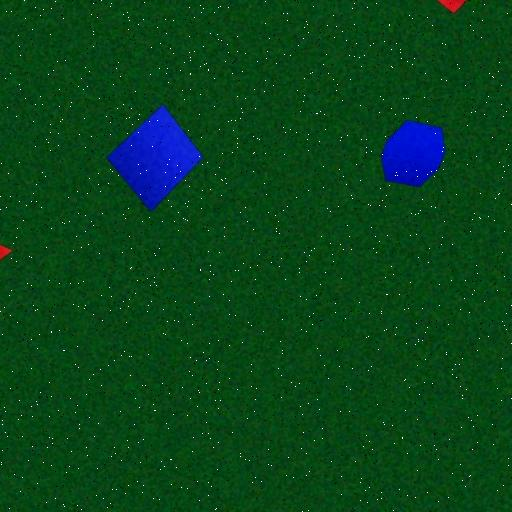BLUE_SQUARE: (106, 103, 204, 213)
RED_SQUARE: (425, 0, 481, 14)
